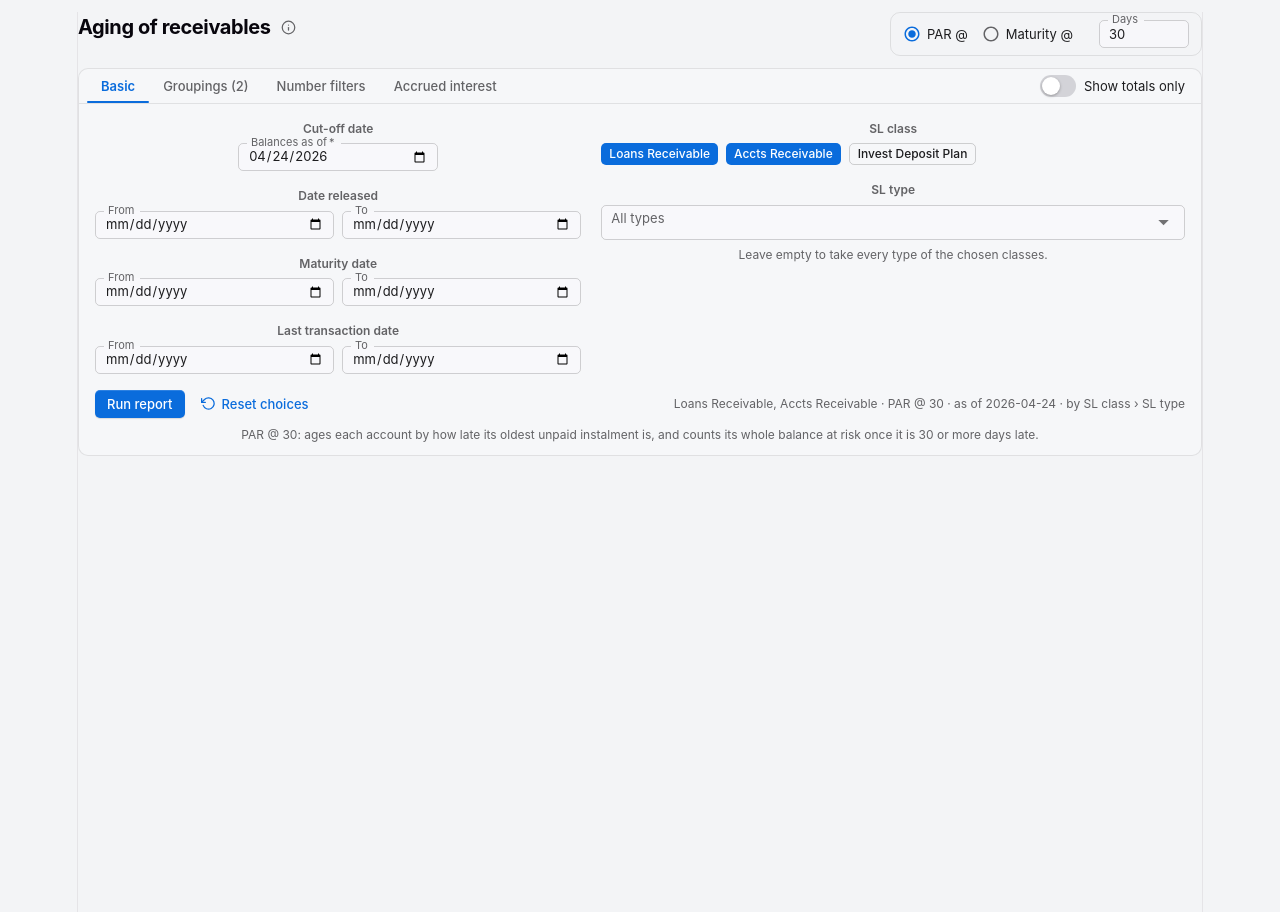
Test: Aging of receivables › allows no more than three groupings
The image size is (1280, 912).
Click the tab "Groupings (2)": click(206, 86) x1=149 y1=69 x2=263 y2=103
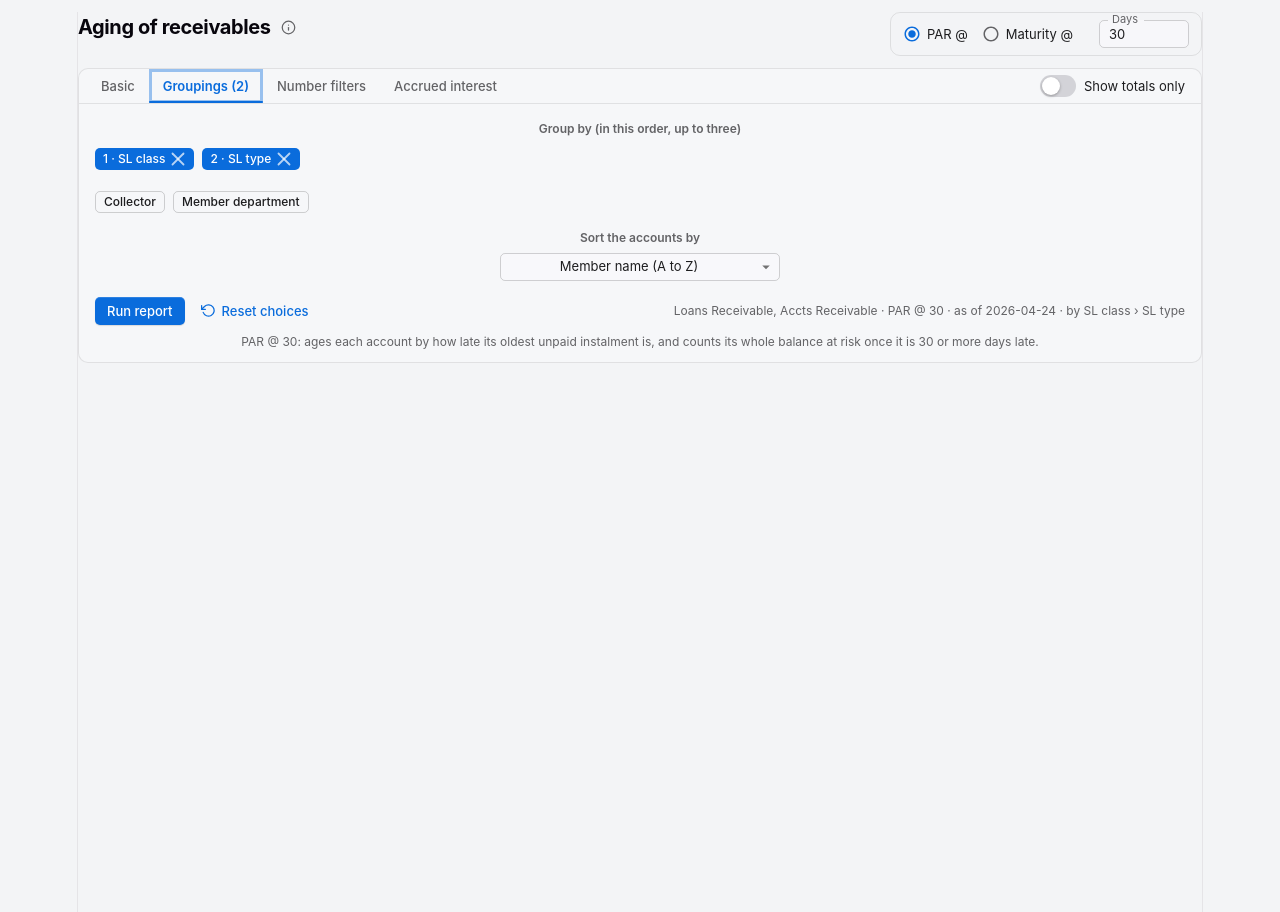
Click the button "Collector": click(130, 202) x1=95 y1=191 x2=165 y2=213
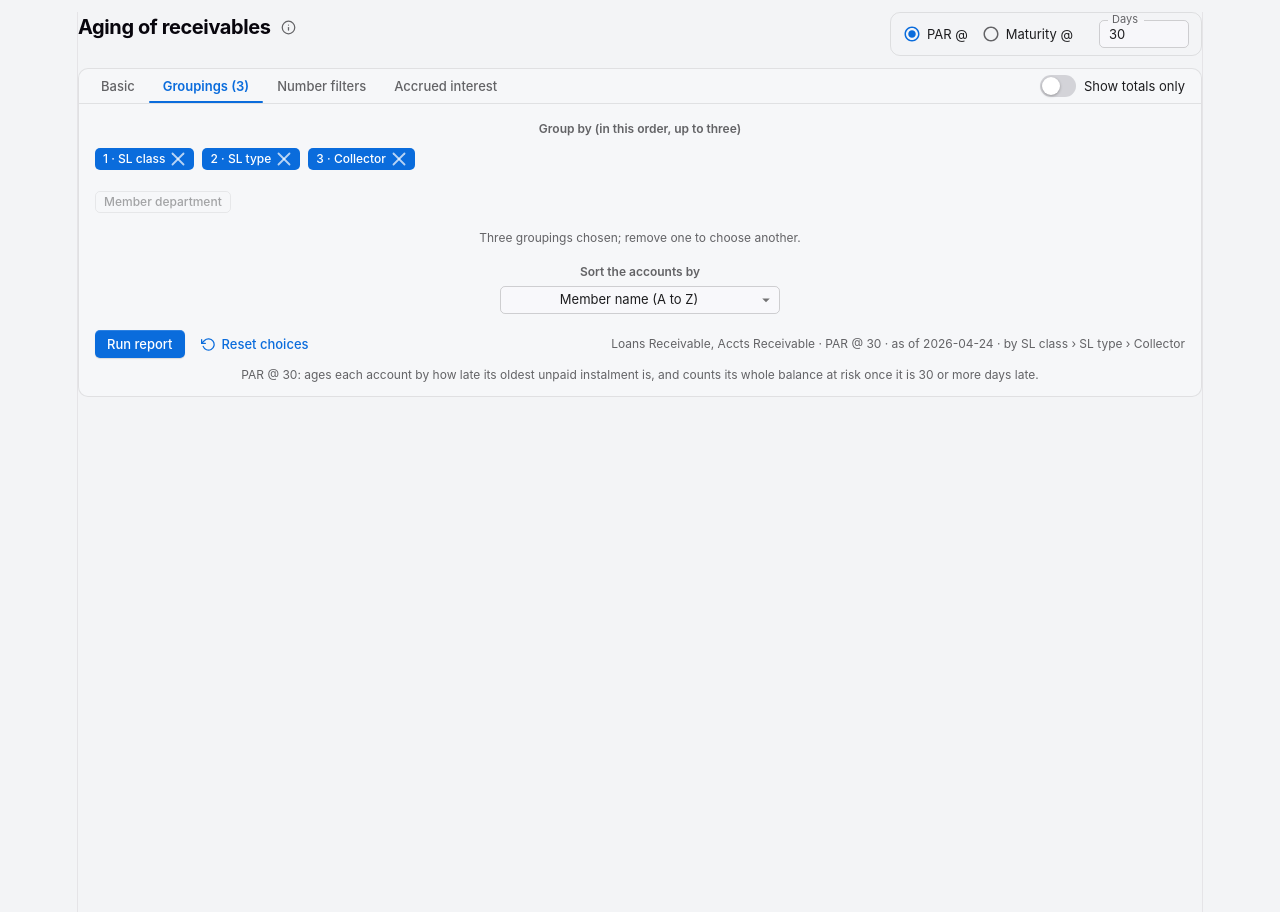
expect the text "Three groupings chosen; remove one to choose another." is shown: met, box x1=479 y1=230 x2=801 y2=245
